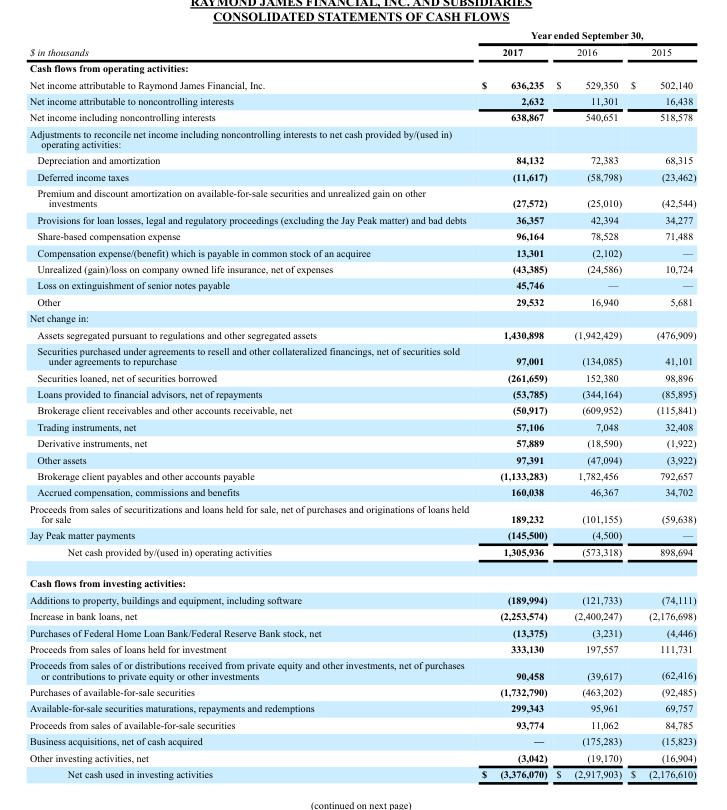table: (28, 29, 695, 779)
table column: (28, 29, 474, 779), (474, 29, 550, 779), (550, 29, 625, 779), (625, 29, 695, 779)
table column header: (28, 29, 695, 59)
table projected row header: (28, 125, 695, 151), (28, 567, 695, 591), (28, 59, 695, 76), (28, 309, 695, 325)
table row: (28, 184, 695, 211), (28, 656, 695, 683), (28, 125, 695, 151), (28, 342, 695, 368), (28, 500, 695, 526), (28, 543, 695, 567), (28, 567, 695, 591), (28, 59, 695, 76), (28, 108, 695, 125), (28, 151, 695, 168), (28, 243, 695, 260), (28, 276, 695, 293), (28, 325, 695, 342), (28, 368, 695, 385), (28, 401, 695, 418), (28, 450, 695, 467), (28, 483, 695, 500), (28, 526, 695, 543), (28, 623, 695, 640), (28, 699, 695, 716), (28, 748, 695, 765), (28, 43, 695, 59), (28, 76, 695, 92), (28, 92, 695, 108), (28, 168, 695, 184), (28, 211, 695, 227), (28, 227, 695, 243), (28, 260, 695, 276), (28, 293, 695, 309), (28, 309, 695, 325), (28, 385, 695, 401), (28, 418, 695, 434), (28, 434, 695, 450), (28, 467, 695, 483), (28, 591, 695, 607), (28, 607, 695, 623), (28, 640, 695, 656), (28, 683, 695, 699), (28, 716, 695, 732), (28, 732, 695, 748), (28, 29, 695, 43), (28, 765, 695, 779)
table spanning cell: (28, 29, 474, 59), (474, 29, 695, 43)
